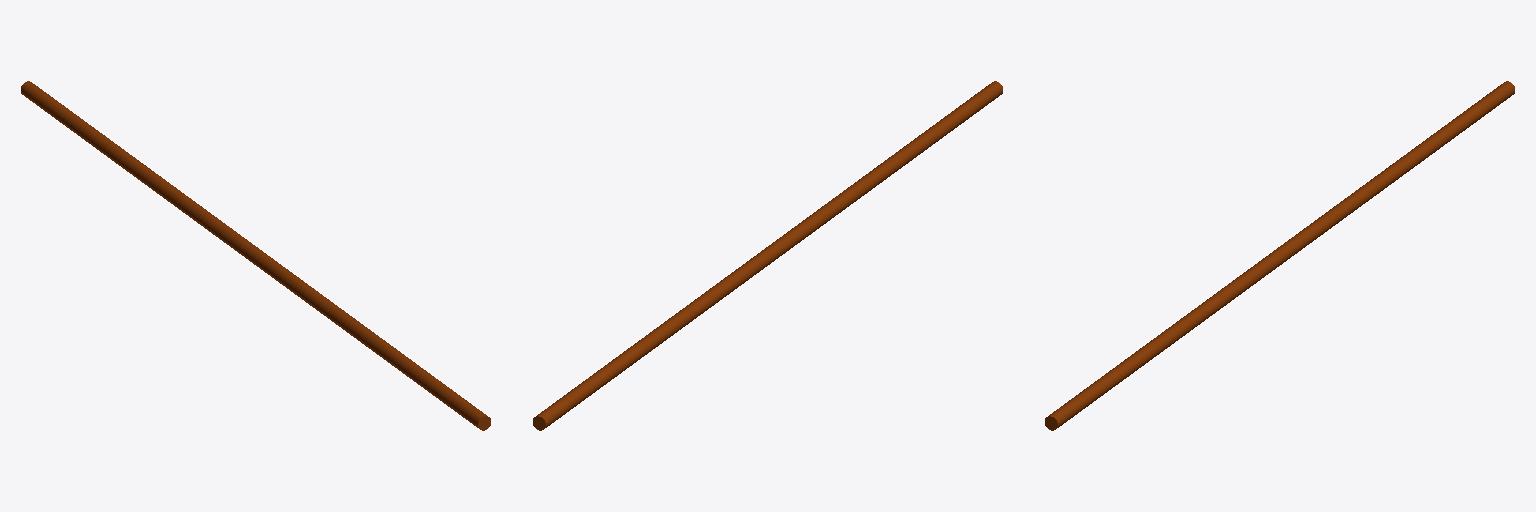
robot.urdf — cylinder:
<?xml version="1.0" ?>
<!-- =================================================================================== -->
<!-- |    This document was autogenerated by xacro from cylinder.xacro                 | -->
<!-- |    EDITING THIS FILE BY HAND IS NOT RECOMMENDED                                 | -->
<!-- =================================================================================== -->
<robot name="cylinder">
  <link name="world"/>
  <link name="base">
    <visual>
      <origin rpy="1.57079633 0 0" xyz="0 0 0"/>
      <geometry>
        <cylinder length="7.07106781185" radius="0.06"/>
      </geometry>
      <material name="cylinder_material">
        <color rgba="0.545 0.271 0.075 1.0"/>
        <texture filename="../textures/tree_bark.jpg"/>
      </material>
    </visual>
    <collision>
      <origin rpy="1.57079633 0 0" xyz="0 0 0"/>
      <geometry>
        <cylinder length="7.07106781185" radius="0.06"/>
      </geometry>
    </collision>
    <inertial>
      <origin rpy="0 0 0" xyz="0 0 0"/>
      <mass value="1"/>
      <inertia ixx="4.167566666648429" ixy="0.0" ixz="0.0" iyy="4.167566666648429" iyz="0.0" izz="24.999999999890573"/>
    </inertial>
  </link>
  <joint name="base_joint" type="fixed">
    <parent link="world"/>
    <child link="base"/>
    <origin rpy="0 0 0" xyz="0.0 0.0 0.0"/>
  </joint>
</robot>

--- Facts derived from the render (not from the file) ---
Views: 3 orthographic renders of the robot side by side, from view 1: azimuth 30°, elevation 25°; view 2: azimuth 150°, elevation 25°; view 3: azimuth 330°, elevation 25°.
Robot: cylinder — 2 links, 1 joints (1 fixed); root link world; default pose: every joint at zero.
Links seen in each view (by area): view 1: base; view 2: base; view 3: base.
Boxes of the visible links, x1,y1,x2,y2 form: base: (21, 81, 490, 430); base: (533, 81, 1002, 430); base: (1045, 81, 1514, 430).
Size in the robot's own frame: 0.12 by 7.07 by 0.12 metres.
Geometry: primitives only (box / cylinder / sphere), no mesh files.
